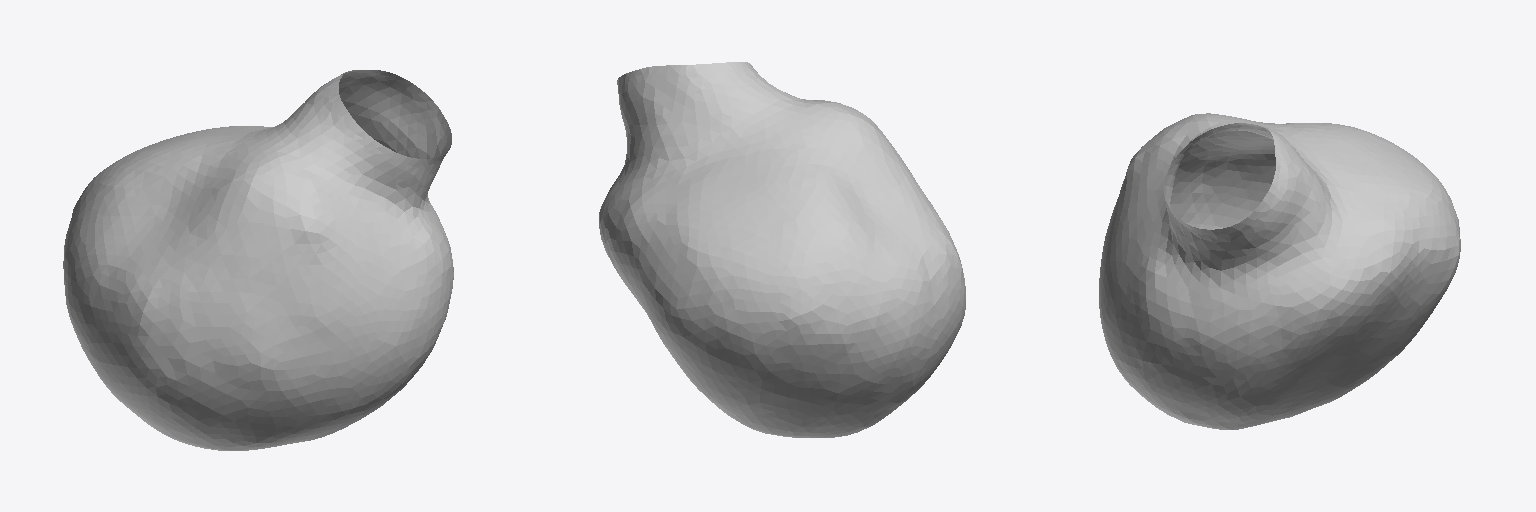
The model's file is Paciente1_ped_str.obj.
3 renders of one model, left to right at view 1: azimuth 30°, elevation 25°; view 2: azimuth 150°, elevation 25°; view 3: azimuth 270°, elevation 25°, orthographic.
Visible parts, largest first — view 1: Paciente_1_ped_str; view 2: Paciente_1_ped_str; view 3: Paciente_1_ped_str.
Part boxes in pixels (x1,y1,x2,y2): Paciente_1_ped_str: (63,70,453,450); Paciente_1_ped_str: (599,62,965,437); Paciente_1_ped_str: (1099,113,1460,429).
Bounding box in the file's own units: 8.94 × 8.53 × 8.39.